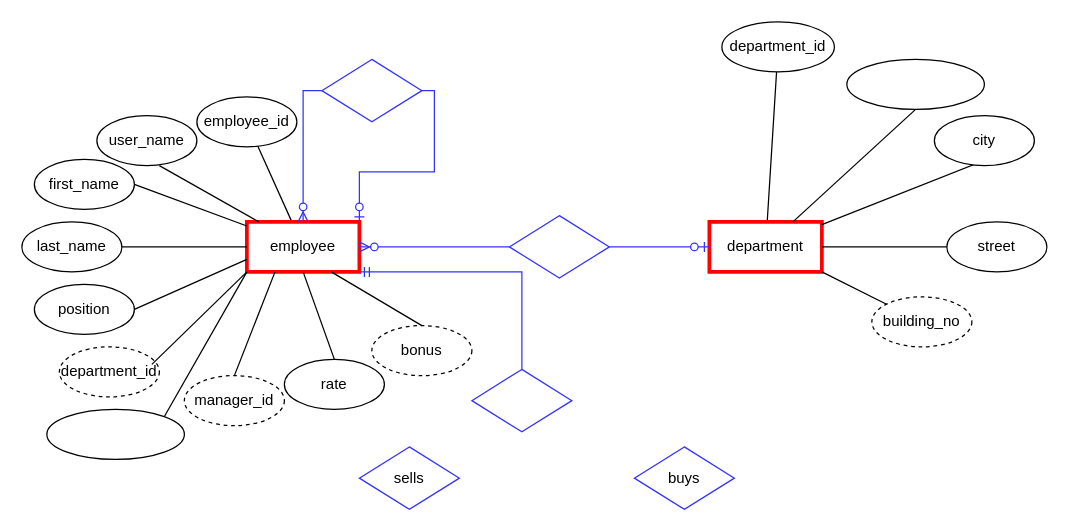
The diagram is 1069 pixels wide and 531 high, and some of its shapes have lost their labels. Each missing label, with the centre of its shape:
"department_name" belongs at point 915,83.
"employment_date" belongs at point 115,433.
"manages" belongs at point 371,90.
"places" belongs at point 521,400.
"works_for" belongs at point 558,246.
